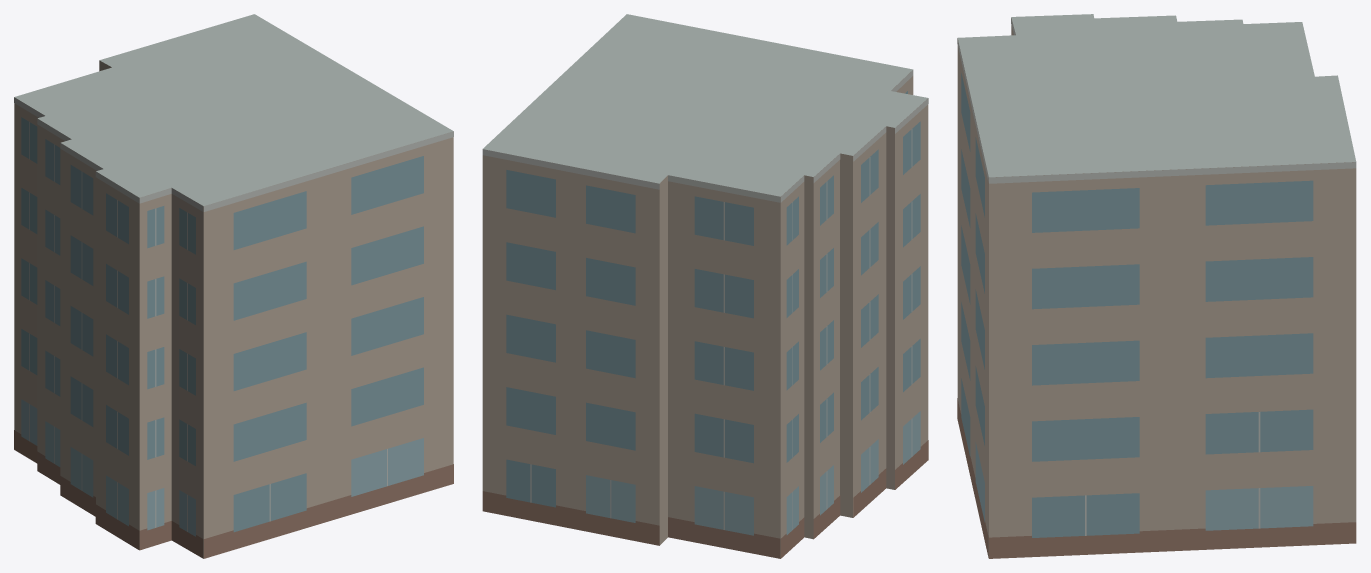
The model's file is survey-upis-32664173.glb.
3 views of the same model, side by side, from view 1: azimuth 30°, elevation 25°; view 2: azimuth 150°, elevation 25°; view 3: azimuth 270°, elevation 25° (orthographic). The views are drawn at different scales.
Visible parts, largest first — view 1: survey-upis-32664173.tmp; view 2: survey-upis-32664173.tmp; view 3: survey-upis-32664173.tmp.
Boxes of the visible parts, x1=… form: survey-upis-32664173.tmp: x1=14, y1=14, x2=453, y2=558; survey-upis-32664173.tmp: x1=482, y1=14, x2=928, y2=558; survey-upis-32664173.tmp: x1=957, y1=14, x2=1356, y2=558.
Size of the model in its own units: 13.33 by 14.5 by 13.75.
